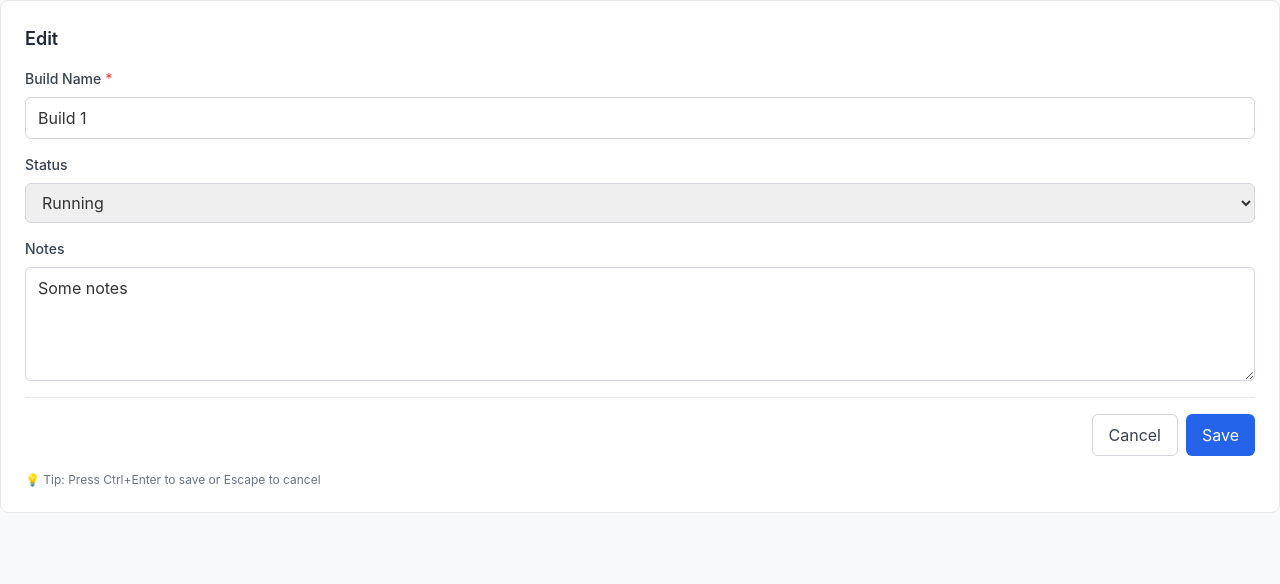
it: InlineEditor Accessibility › Screen Reader Announcements › should announce submit errors
Click the button "Save" at (1220,435), box [1186,414,1255,456]
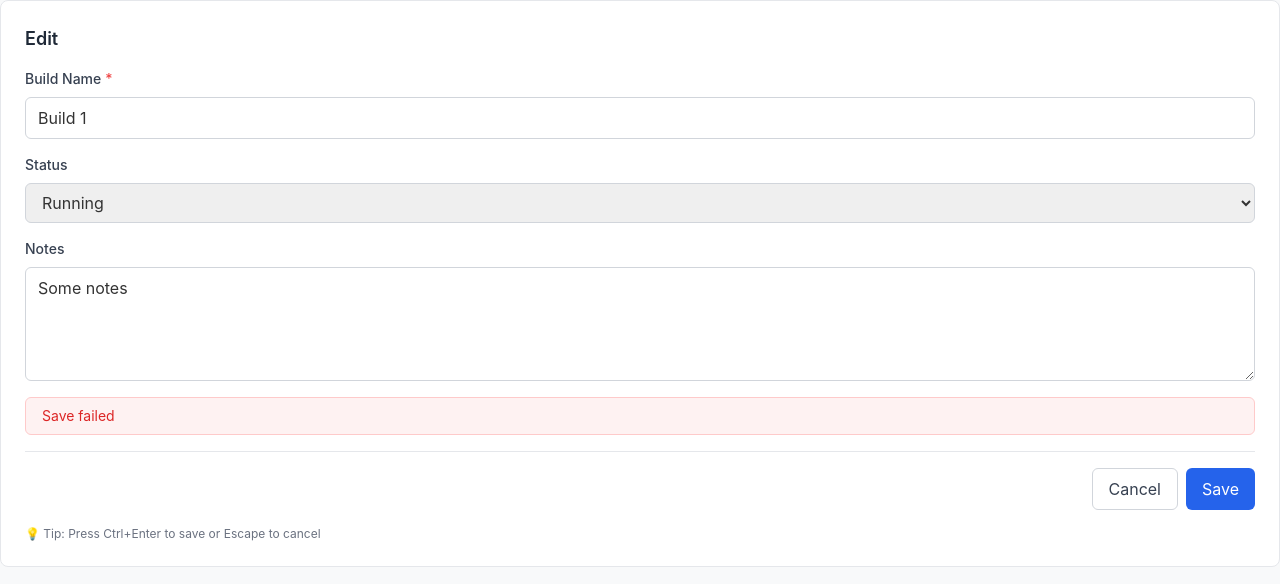
expect the text "Save failed" is shown: met, box [42,407,115,424]
